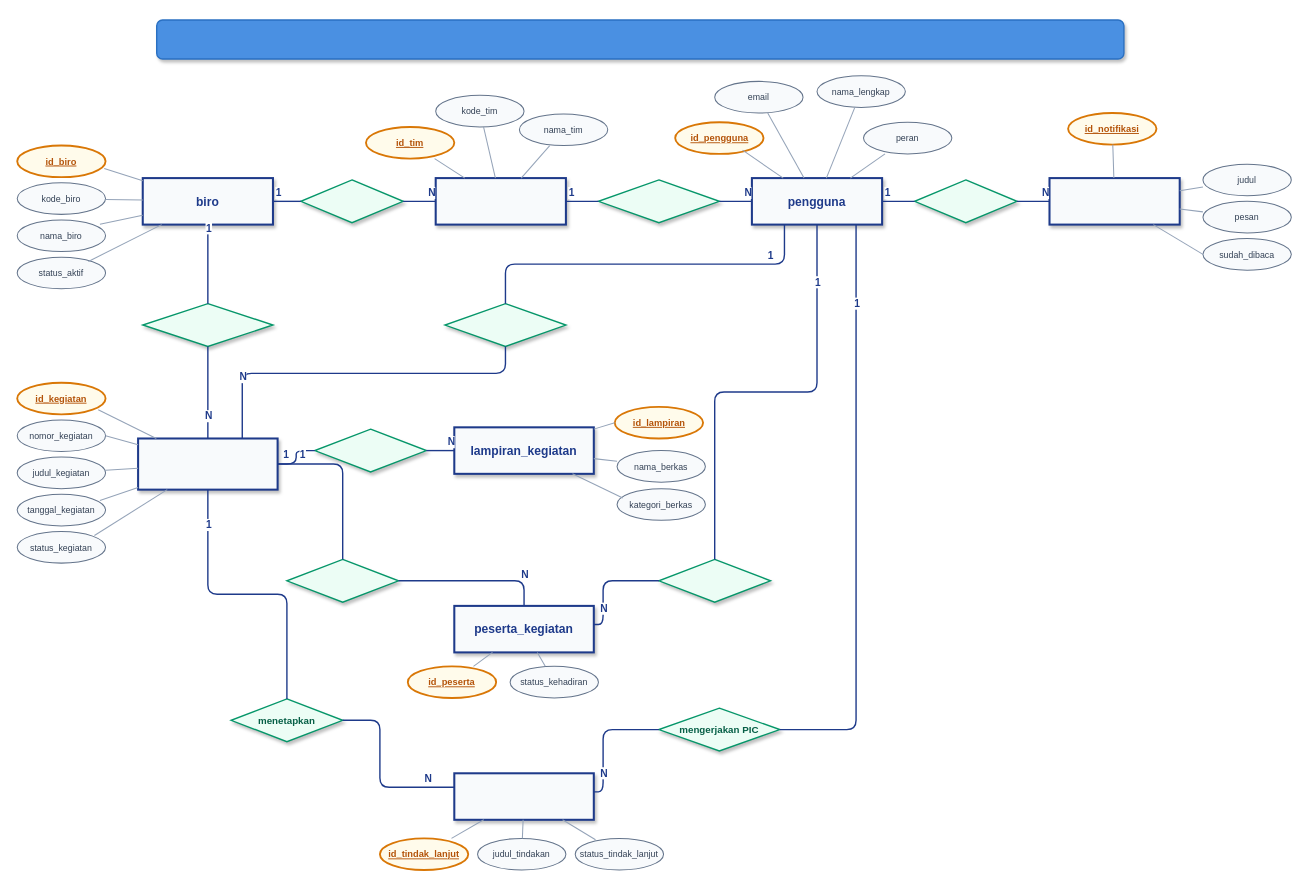
Some shapes in this 1308 by 887 pixel diagram are drawn without their labels. The centre of each missing label's shape, as x and y in pixels:
beranggotakan: point (659, 202)
Entity Relationship Diagram (ERD) Log Book Kegiatan KEK: point (641, 40)
kegiatan: point (208, 465)
melampirkan: point (371, 451)
memimpin: point (506, 326)
menaungi: point (352, 202)
menerima: point (966, 202)
menghadiri: point (715, 582)
mengundang: point (343, 582)
menyelenggarakan: point (208, 326)
notifikasi: point (1115, 202)
tim_biro: point (501, 202)
tindak_lanjut: point (524, 797)
